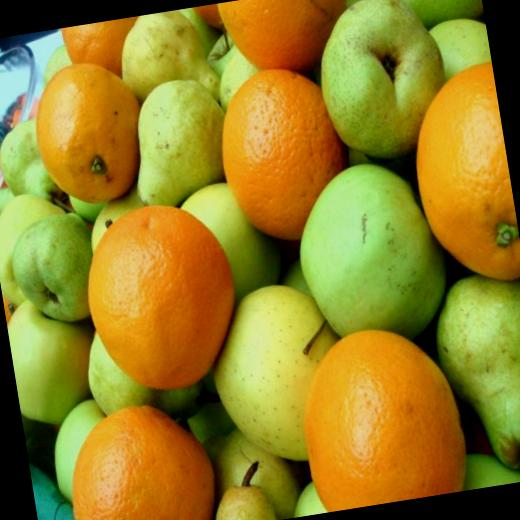Grape: (74, 192, 250, 398), (290, 320, 468, 508), (204, 57, 354, 255), (397, 62, 520, 284), (58, 394, 228, 520), (27, 56, 149, 210), (216, 0, 360, 82)
